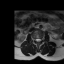CCS_normal: (37, 37, 39, 44)
LFS_normal: (41, 36, 43, 42)
LLS_normal: (39, 36, 41, 43)
RFS_normal: (33, 36, 35, 42)
RLS_normal: (35, 36, 37, 43)
